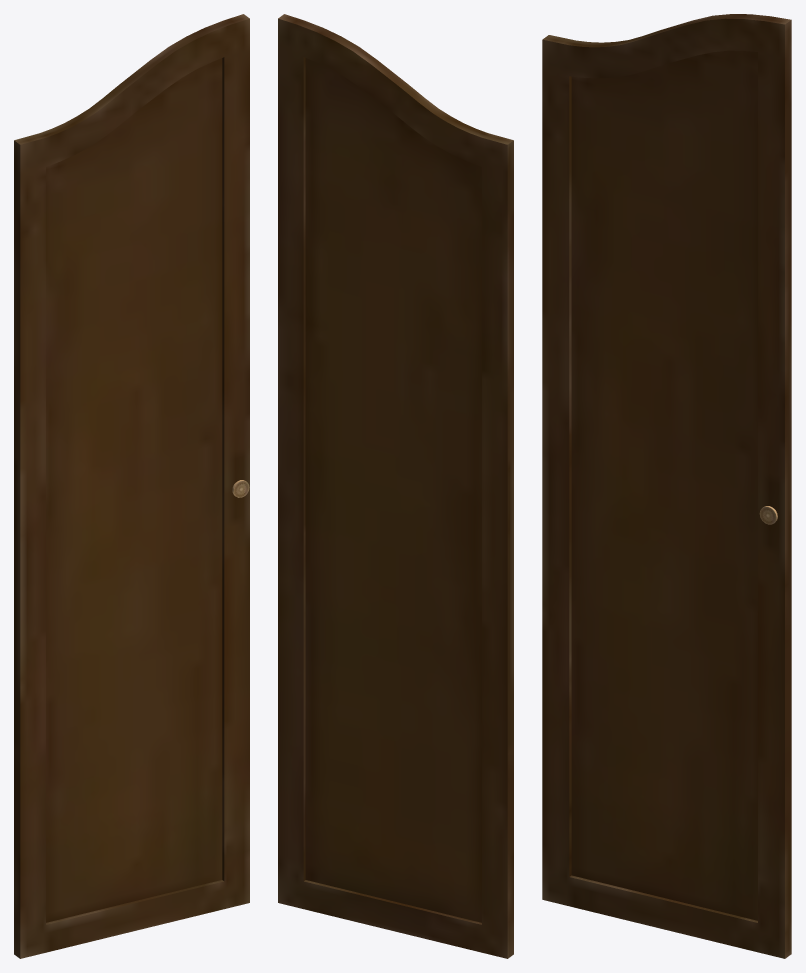
The model's file is SM_wardrobe_door_01_501f81.glb.
3 renders of one model, left to right at view 1: azimuth 30°, elevation 25°; view 2: azimuth 150°, elevation 25°; view 3: azimuth 330°, elevation 25°, orthographic. The views are drawn at different scales.
Size of the model in its own units: 0.45 by 1.66 by 0.0341.
Materials: 1 (1 with a texture image).
